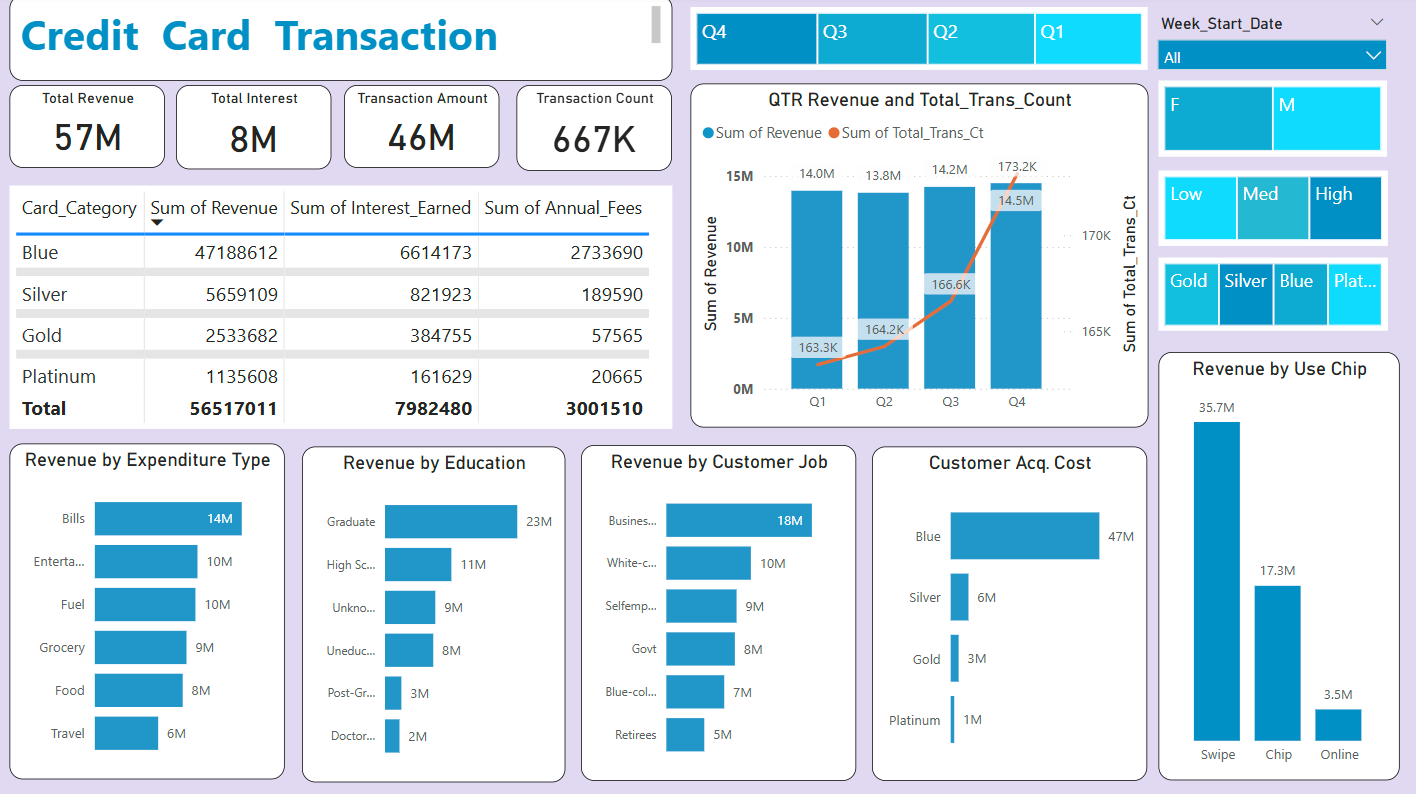

Layout of this report page (visuals, bound fields, positions):
{"tool":"powerbi","page":{"name":"CC Transaction","canvas":[1280,720],"ordinal":0},"visuals":[{"type":"textbox","box":[11.9,0,597,77.6],"z":0},{"type":"lineStackedColumnComboChart","title":"QTR Revenue and Total_Trans_Count","fields":{"Category":["public cc_detail.Qtr"],"Y":["Sum(public cc_detail.Revenue)"],"Y2":["Sum(public cc_detail.Total_Trans_Vol)"]},"box":[625.3,80.3,412.7,310.3],"z":1000},{"type":"barChart","title":"Revenue by Expenditure Type","fields":{"Y":["Sum(public cc_detail.Revenue)"],"Category":["public cc_detail.Exp Type"]},"box":[11.9,404.5,247.8,303],"z":2000},{"type":"barChart","title":"Revenue by Education","fields":{"Y":["Sum(public cc_detail.Revenue)"],"Category":["public cust_detail.Education_Level"]},"box":[276.1,407.5,237.3,303],"z":3000},{"type":"barChart","title":"Revenue by Customer Job","fields":{"Y":["Sum(public cc_detail.Revenue)"],"Category":["public cust_detail.Customer_Job"]},"box":[526.9,406,247.8,303],"z":4000},{"type":"barChart","title":"Customer Acq. Cost","fields":{"Y":["Sum(public cc_detail.Revenue)"],"Category":["public cc_detail.Card_Category"]},"box":[789.6,407.5,247.8,301.5],"z":5000},{"type":"clusteredColumnChart","title":"Revenue by Use Chip","fields":{"Category":["public cc_detail.Use Chip"],"Y":["Sum(public cc_detail.Revenue)"]},"box":[1047.4,321.3,217.4,385.9],"z":6000},{"type":"tableEx","fields":{"Values":["public cc_detail.Card_Category","Sum(public cc_detail.Revenue)","Sum(public cc_detail.Interest_Earned)","Sum(public cc_detail.Annual_Fees)"]},"box":[12,171,597,219.4],"z":7000},{"type":"card","title":"Total Revenue","fields":{"Values":["Sum(public cc_detail.Revenue)"]},"box":[11.9,80.6,140.3,74.6],"z":8000},{"type":"card","title":"Transaction Amount","fields":{"Values":["Sum(public cc_detail.Total_Trans_Amt)"]},"box":[313.4,80.6,140.3,74.6],"z":9000},{"type":"card","title":"Total Interest","fields":{"Values":["Sum(public cc_detail.Interest_Earned)"]},"box":[162.7,80.6,140.3,76.1],"z":10000},{"type":"card","title":"Transaction Count","fields":{"Values":["Sum(public cc_detail.Total_Trans_Ct)"]},"box":[468.7,80.6,140.3,77.6],"z":11000},{"type":"slicer","fields":{"Values":["public cc_detail.Week_Start_Date"]},"box":[1037.3,11.9,226.9,65.7],"z":12000},{"type":"treemap","fields":{"Group":["public cc_detail.Qtr"],"Values":["Avg(public cc_detail.Client_Num)"]},"box":[625.4,10.4,411.9,56.7],"z":13000},{"type":"treemap","fields":{"Values":["Avg(public cc_detail.Client_Num)"],"Group":["public cust_detail.Gender"]},"box":[1047.8,77.6,206,68.7],"z":14000},{"type":"treemap","fields":{"Values":["Avg(public cc_detail.Client_Num)"],"Group":["public cc_detail.Card_Category"]},"box":[1047.4,236.3,206.3,66.2],"z":15000},{"type":"treemap","fields":{"Values":["Avg(public cc_detail.Client_Num)"],"Group":["public cust_detail.IncomeGroup"]},"box":[1047.4,157.5,206.3,67.7],"z":16000}]}

Visuals, with their boxes in screenshot pixels (x1, y1, x2, y2), scaled from the page's 1280x720 canvas onto the 1416x794 screenshot:
textbox: bbox=(13, 0, 674, 86)
"QTR Revenue and Total_Trans_Count" lineStackedColumnComboChart: bbox=(692, 89, 1148, 431)
"Revenue by Expenditure Type" barChart: bbox=(13, 446, 287, 780)
"Revenue by Education" barChart: bbox=(305, 449, 568, 784)
"Revenue by Customer Job" barChart: bbox=(583, 448, 857, 782)
"Customer Acq. Cost" barChart: bbox=(873, 449, 1148, 782)
"Revenue by Use Chip" clusteredColumnChart: bbox=(1159, 354, 1399, 780)
tableEx - public cc_detail.Card_Category x Sum(public cc_detail.Revenue): bbox=(13, 189, 674, 431)
"Total Revenue" card: bbox=(13, 89, 168, 171)
"Transaction Amount" card: bbox=(347, 89, 502, 171)
"Total Interest" card: bbox=(180, 89, 335, 173)
"Transaction Count" card: bbox=(518, 89, 674, 174)
slicer - public cc_detail.Week_Start_Date: bbox=(1148, 13, 1399, 86)
treemap - public cc_detail.Qtr x Avg(public cc_detail.Client_Num): bbox=(692, 11, 1148, 74)
treemap - Avg(public cc_detail.Client_Num) x public cust_detail.Gender: bbox=(1159, 86, 1387, 161)
treemap - Avg(public cc_detail.Client_Num) x public cc_detail.Card_Category: bbox=(1159, 261, 1387, 334)
treemap - Avg(public cc_detail.Client_Num) x public cust_detail.IncomeGroup: bbox=(1159, 174, 1387, 248)
